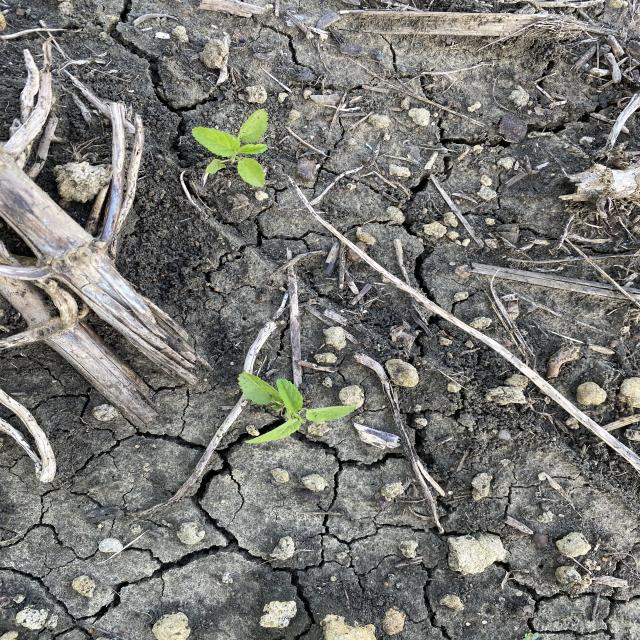PricklySida: (236, 369, 357, 445), (190, 107, 272, 190)
